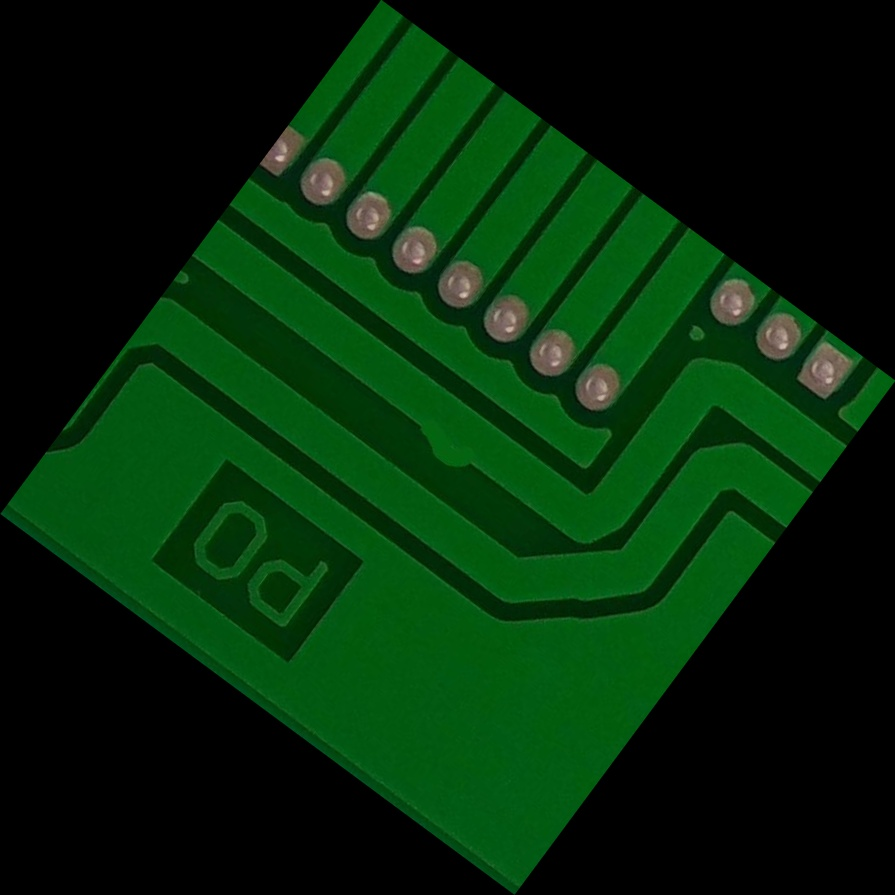spur: (381, 387, 514, 508)
